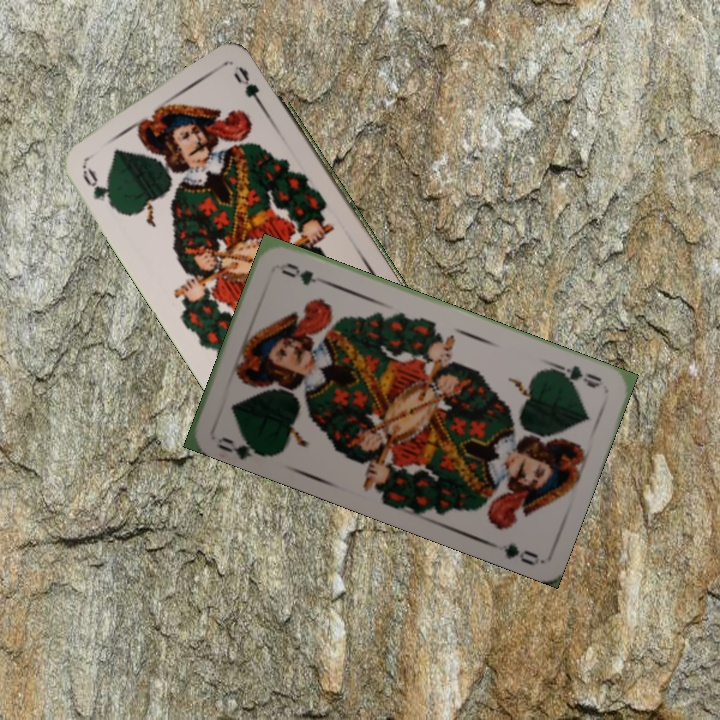GO: (78, 161, 118, 212), (549, 359, 605, 391), (211, 431, 270, 461)
